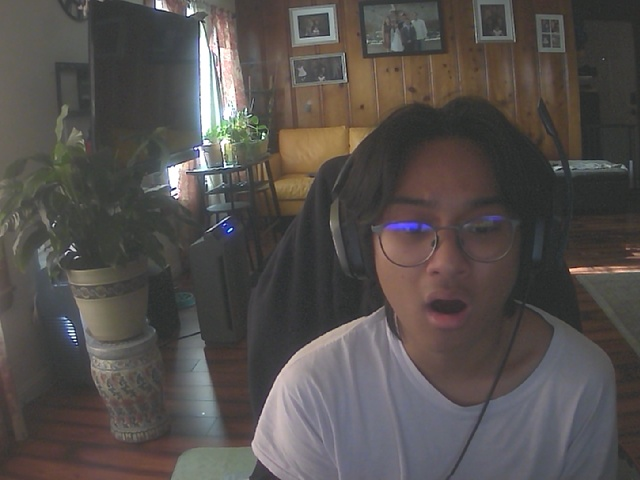fear: (372, 131, 522, 352)
